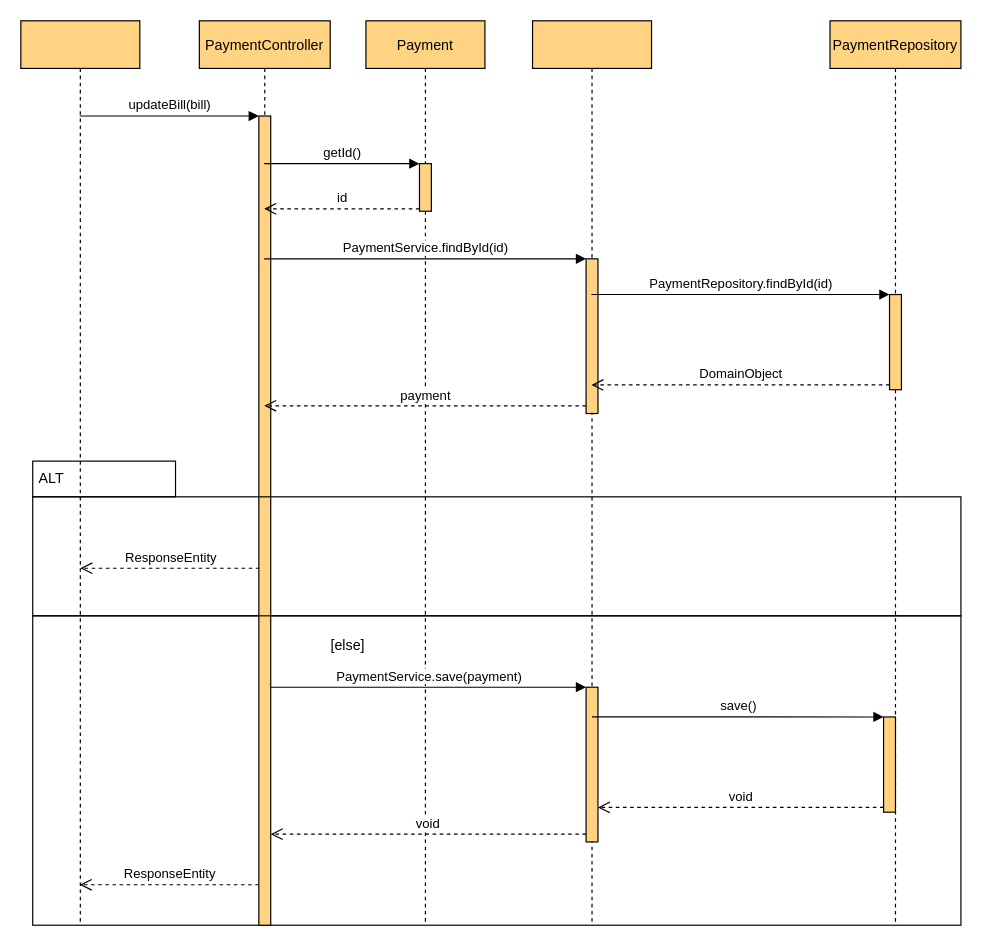
This 982x946 diagram has some shape labels left out. Here are the shapes that lost their labels. From the top down, the box of each, then its label:
(20, 20, 140, 925): Frontend
(531, 20, 652, 925): PaymentService
(32, 496, 961, 616): [payment != null]
